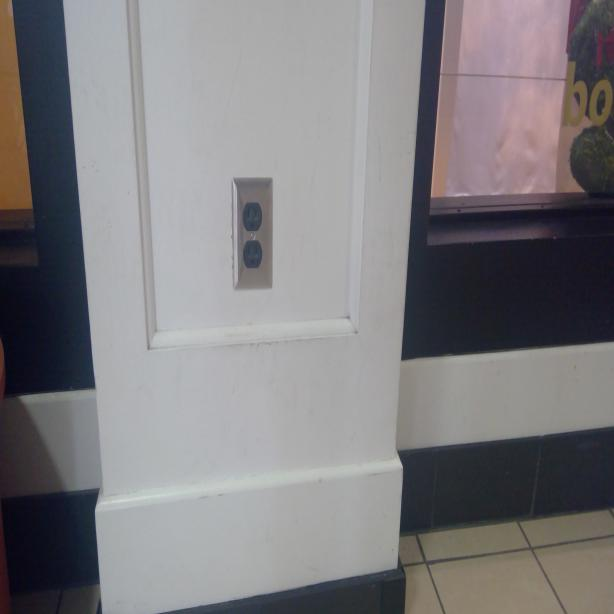typeb: (244, 205, 261, 230), (244, 244, 261, 268)
